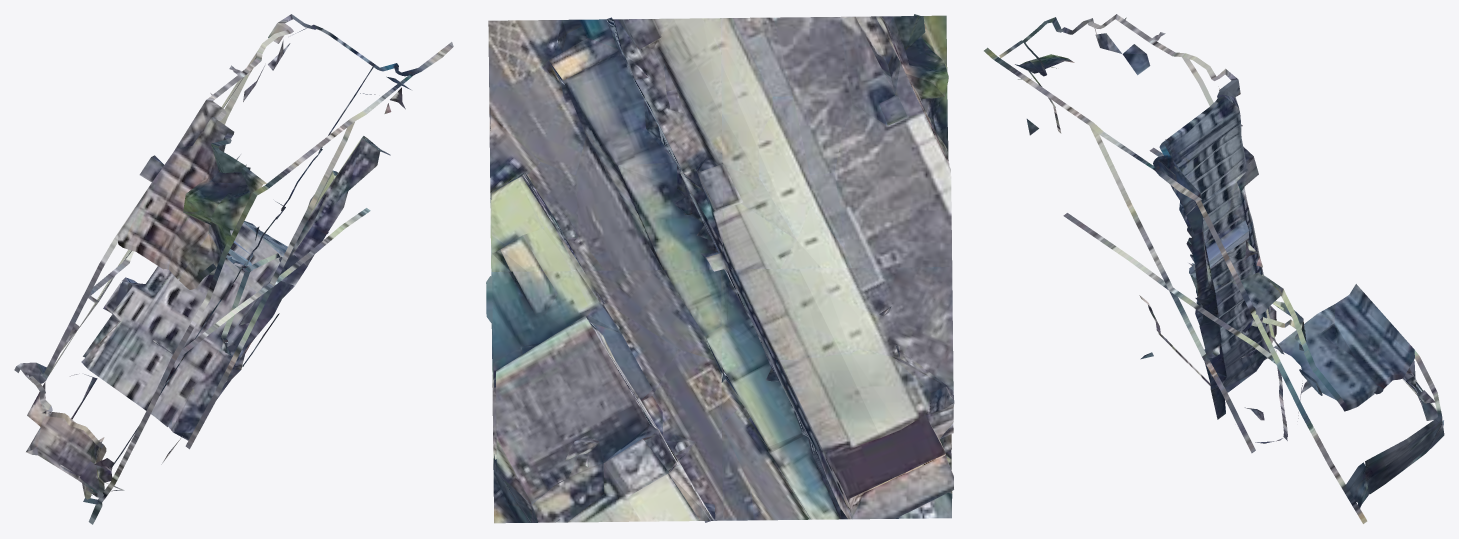
3 renders of one model, left to right at view 1: azimuth 30°, elevation 25°; view 2: azimuth 150°, elevation 25°; view 3: azimuth 270°, elevation 25°, orthographic. The views are drawn at different scales.
Bounding box in the file's own units: 84.39 × 78.64 × 77.9.
Materials: 1 (1 with a texture image).
